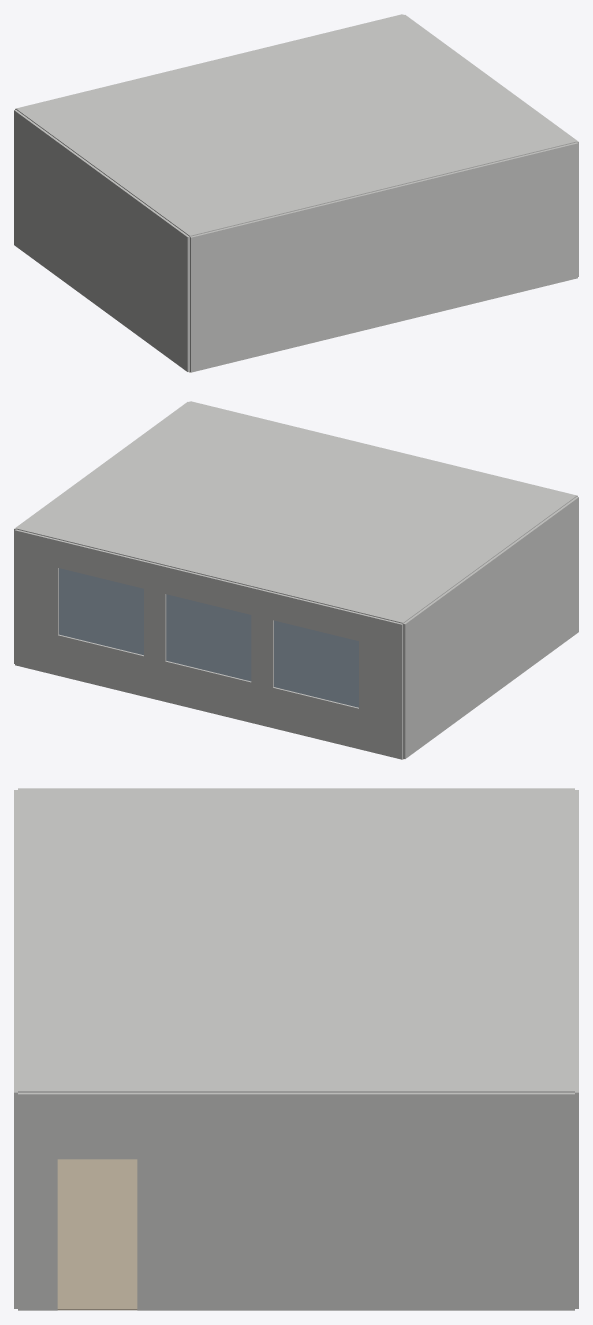
The model's file is item_room_classroom.glb.
3 views of the same model, one above another, from view 1: azimuth 30°, elevation 25°; view 2: azimuth 150°, elevation 25°; view 3: azimuth 270°, elevation 25° (orthographic). The views are drawn at different scales.
Parts seen in each view (by area): view 1: item_room_classroom; view 2: item_room_classroom; view 3: item_room_classroom.
Part boxes in pixels (x1=…): item_room_classroom: x1=14, y1=14, x2=578, y2=372; item_room_classroom: x1=14, y1=401, x2=578, y2=759; item_room_classroom: x1=14, y1=788, x2=578, y2=1310.
Size of the model in its own units: 9.1 by 3.04 by 7.1.
